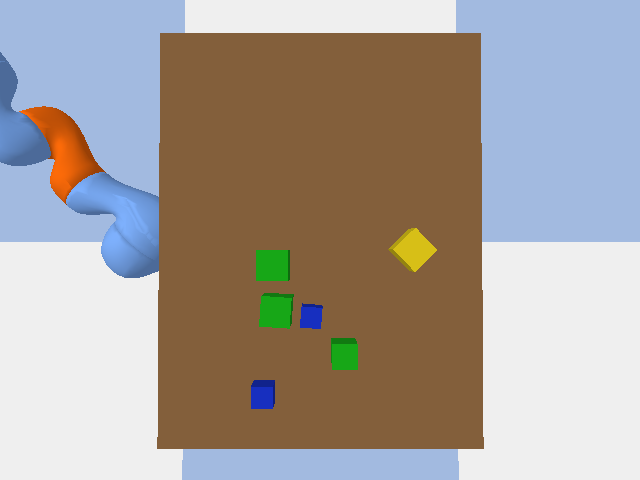blue_obj: (251, 380, 274, 408), (300, 303, 322, 328)
green_obj: (259, 293, 293, 328), (256, 250, 289, 280), (331, 338, 357, 369)
yellow_obj: (388, 228, 436, 271)
